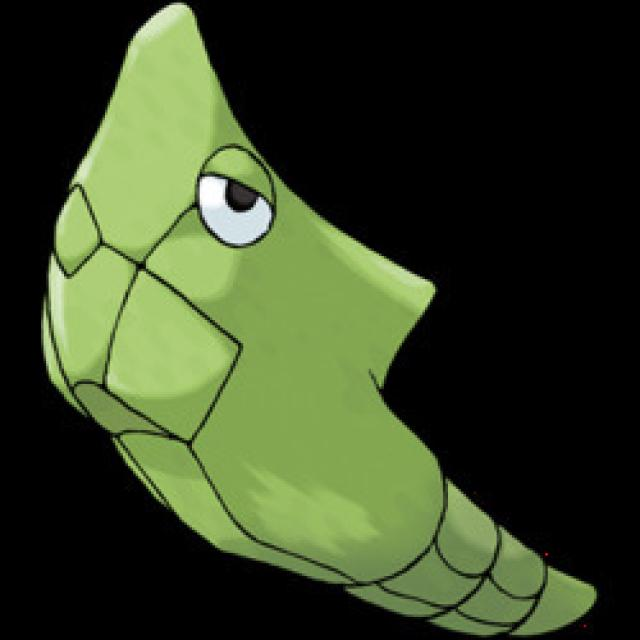Metapod: (40, 4, 592, 640)
